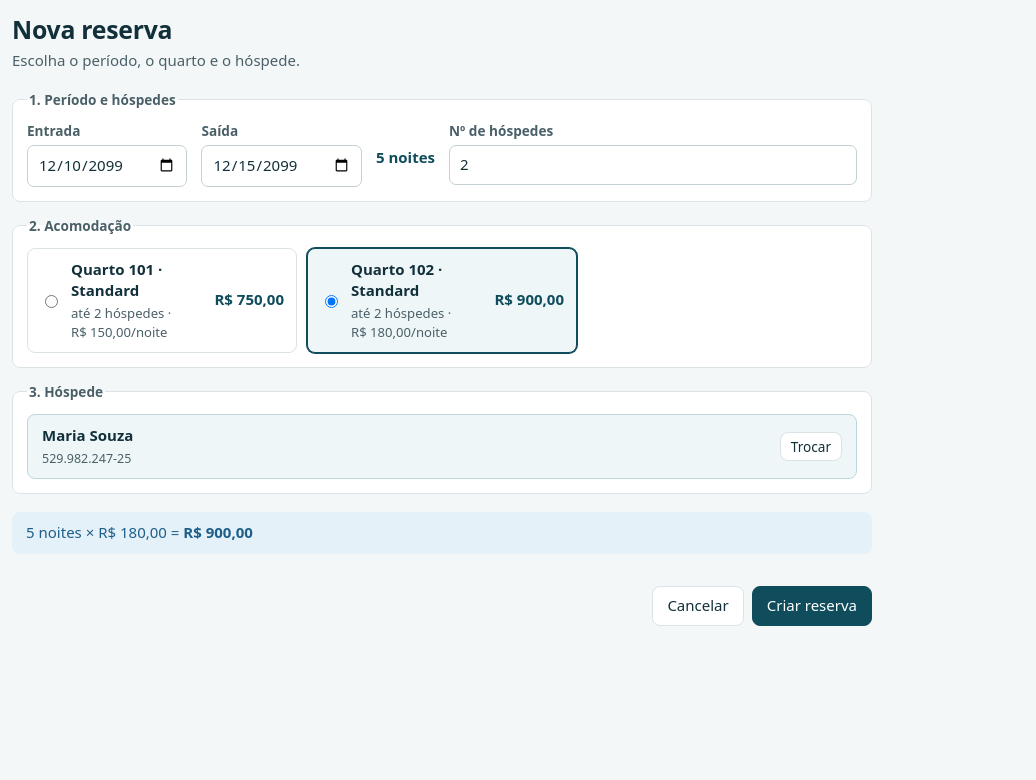
it: Nova reserva › fluxo completo: quarto vindo da disponibilidade + hóspede pré-selecionado → POST
This screenshot has width=1036, height=780.
Expected: the text "Maria Souza" is shown, [42, 425, 133, 445]
Expected: the radio button labelled "Quarto 102" is checked, [325, 295, 338, 308]
Click the button "Criar reserva" at {"x": 812, "y": 606}, box [752, 586, 872, 626]
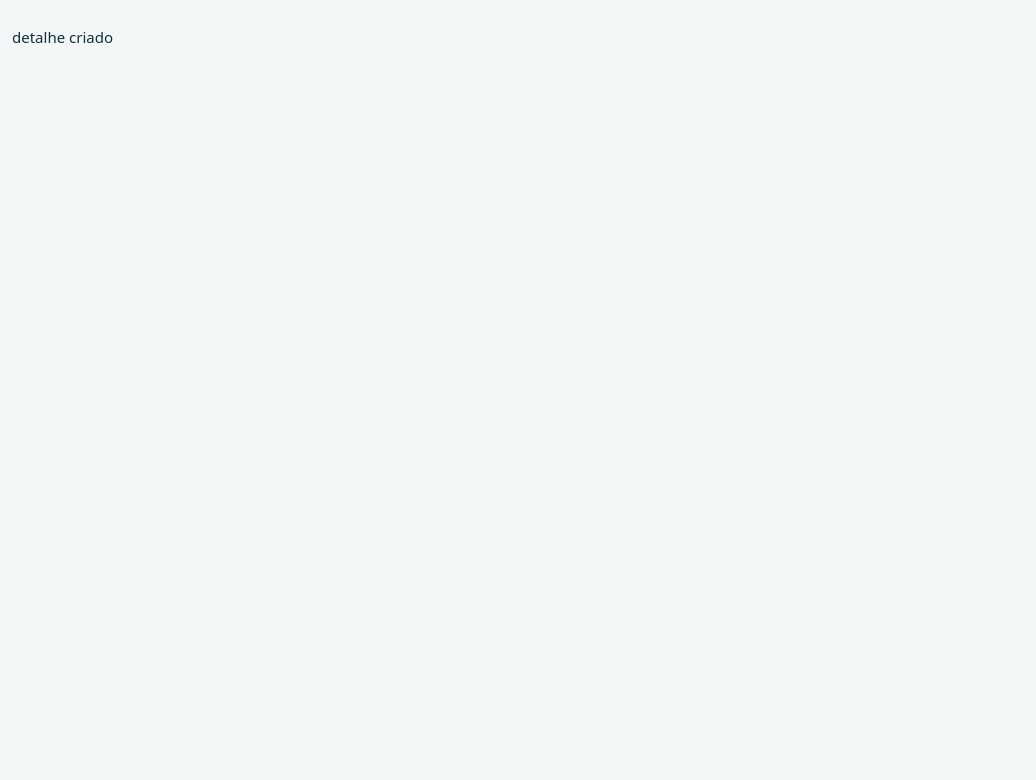
Now the text "detalhe criado" is shown, box [12, 27, 113, 47]
